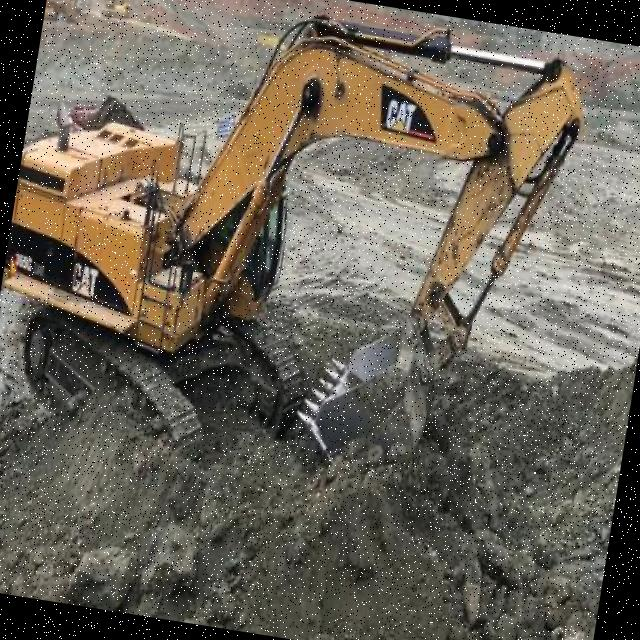Excavator: (0, 0, 598, 511)
